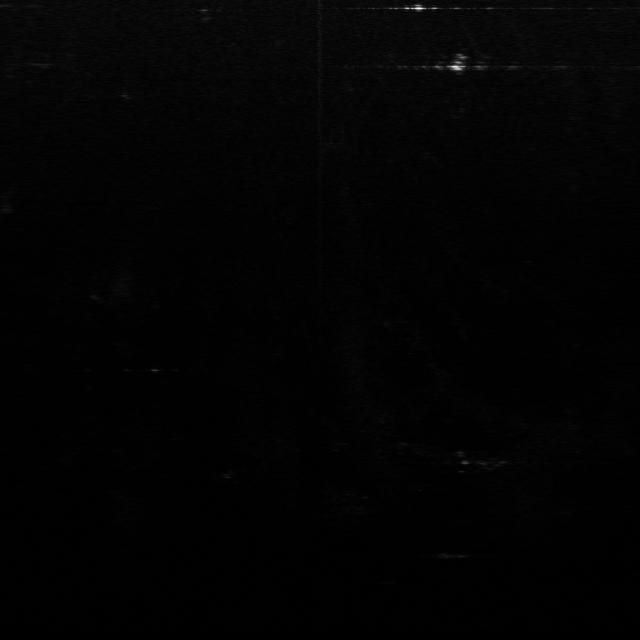rov: (446, 46, 476, 71)
